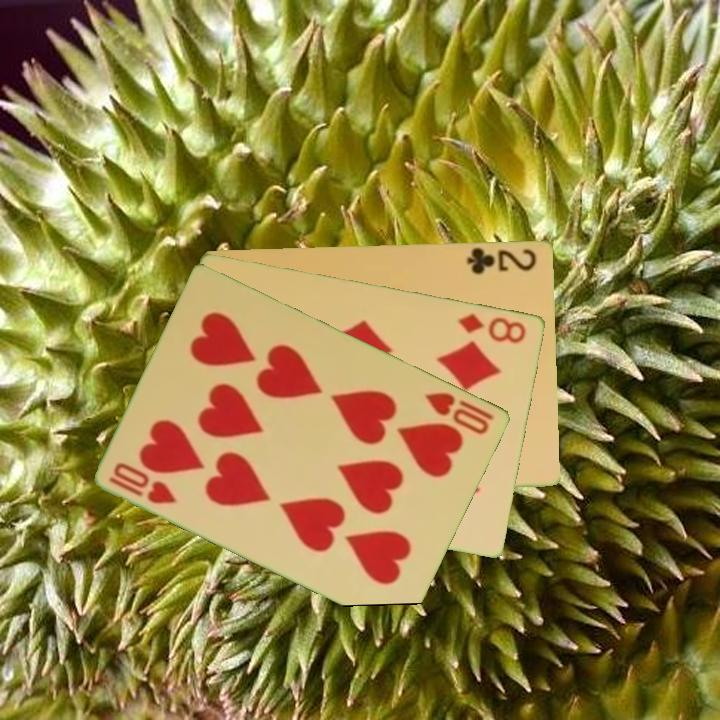10h: (421, 388, 498, 438), (105, 458, 180, 507)
2c: (464, 243, 540, 277)
8d: (454, 309, 529, 346)
